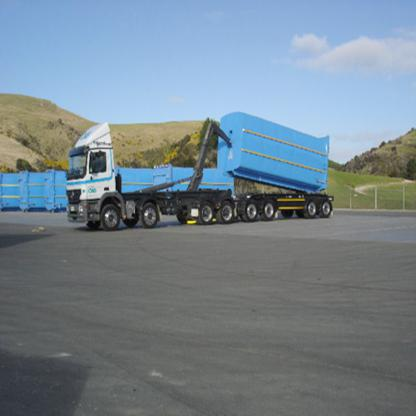Truck: (38, 118, 337, 233)
